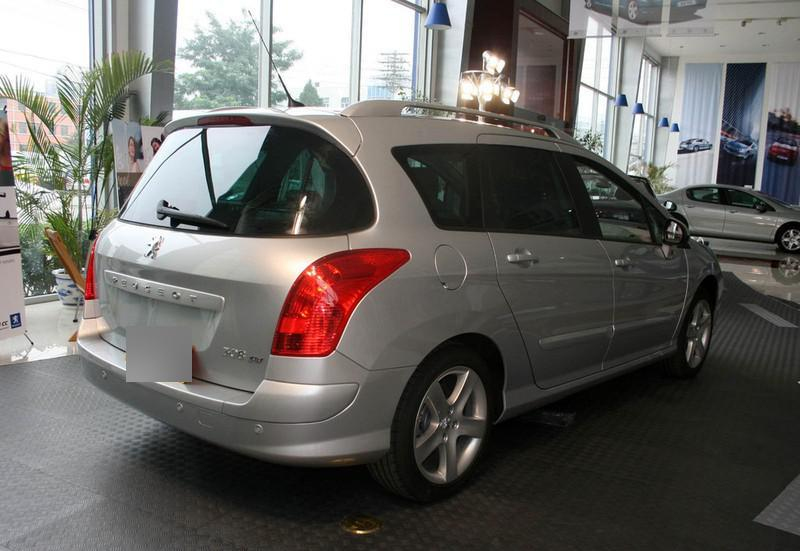Wagon: (75, 99, 723, 505)
